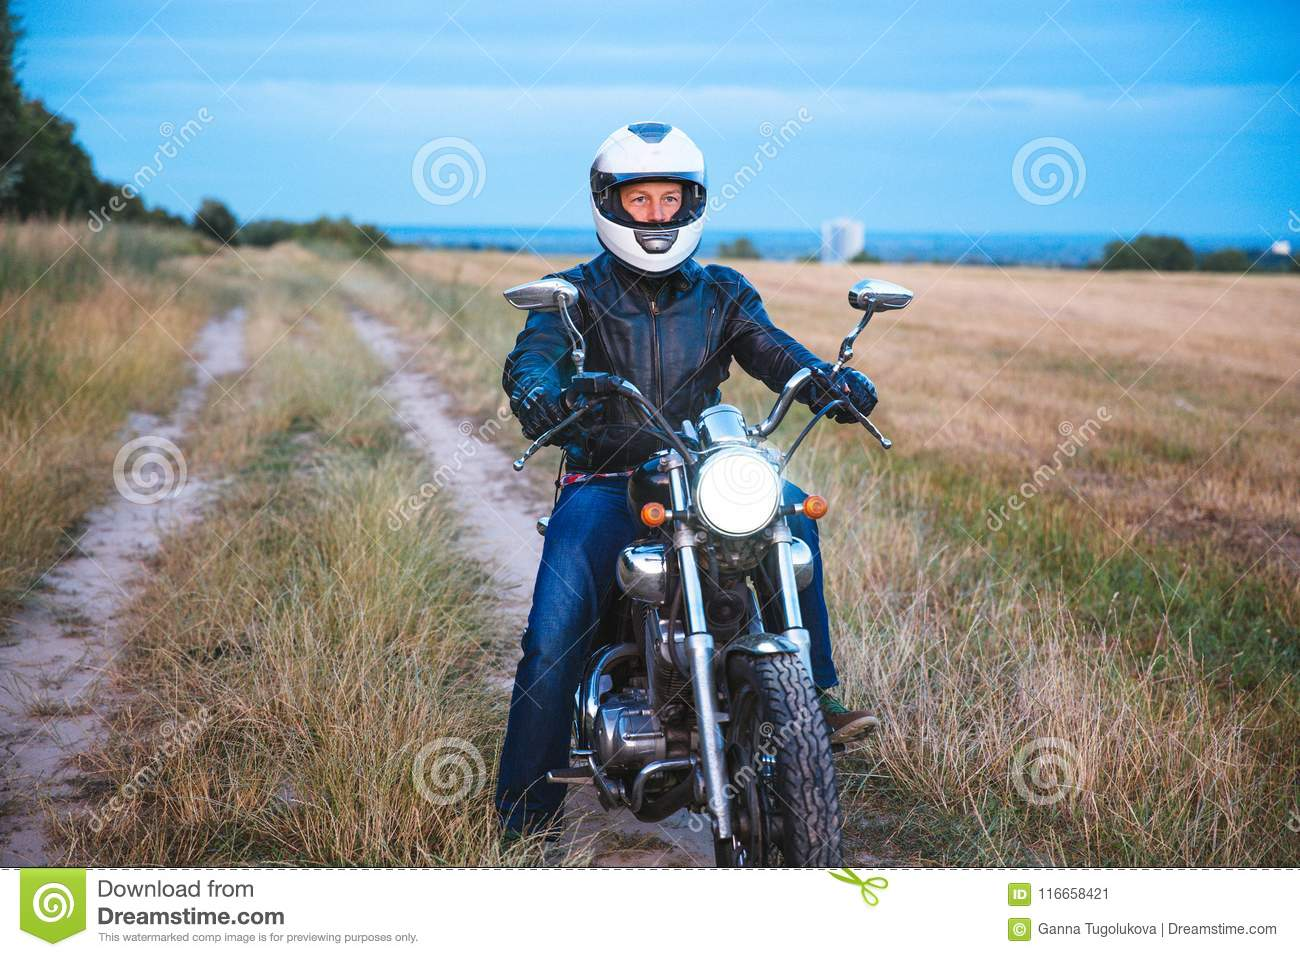helmet: (582, 114, 708, 267)
